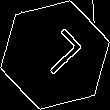L_SW: (26, 26, 84, 84)
